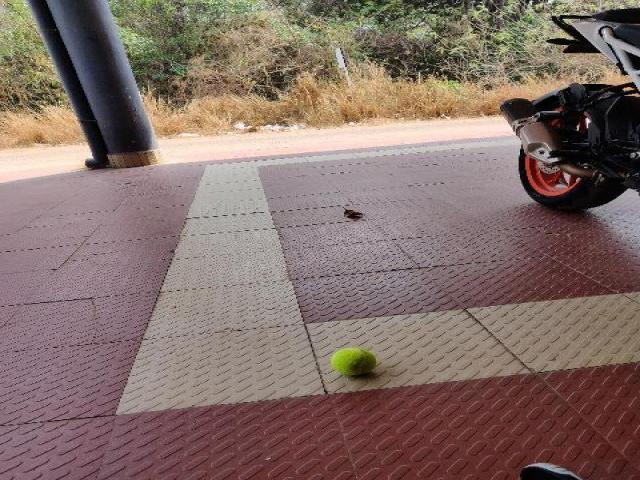tennis-ball: (331, 348, 377, 374)
